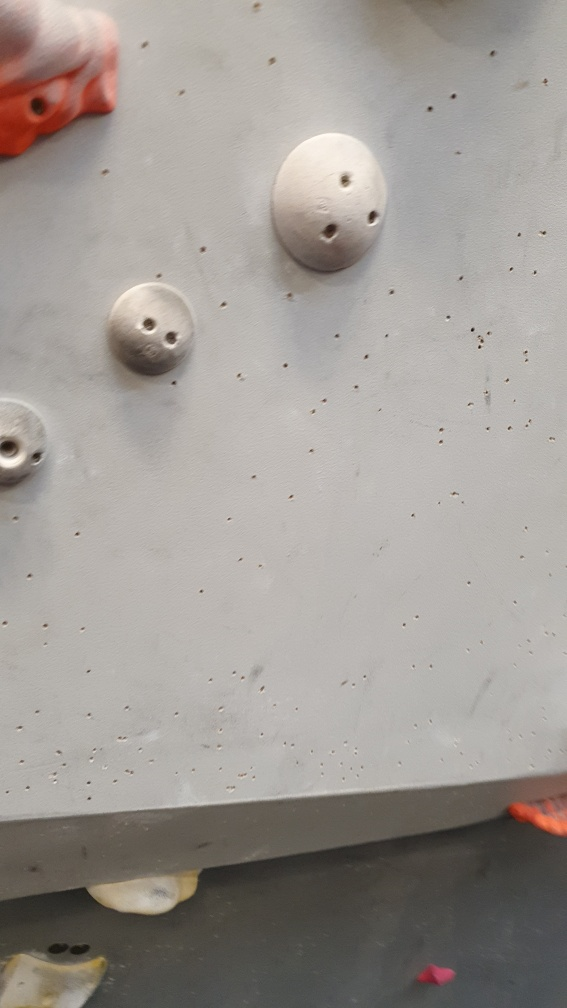Hand Start: (41, 938, 70, 959), (67, 939, 93, 961)
Jug: (1, 4, 123, 170), (497, 780, 567, 840)
Sloper: (268, 130, 393, 276), (104, 279, 201, 378), (1, 393, 50, 492)
